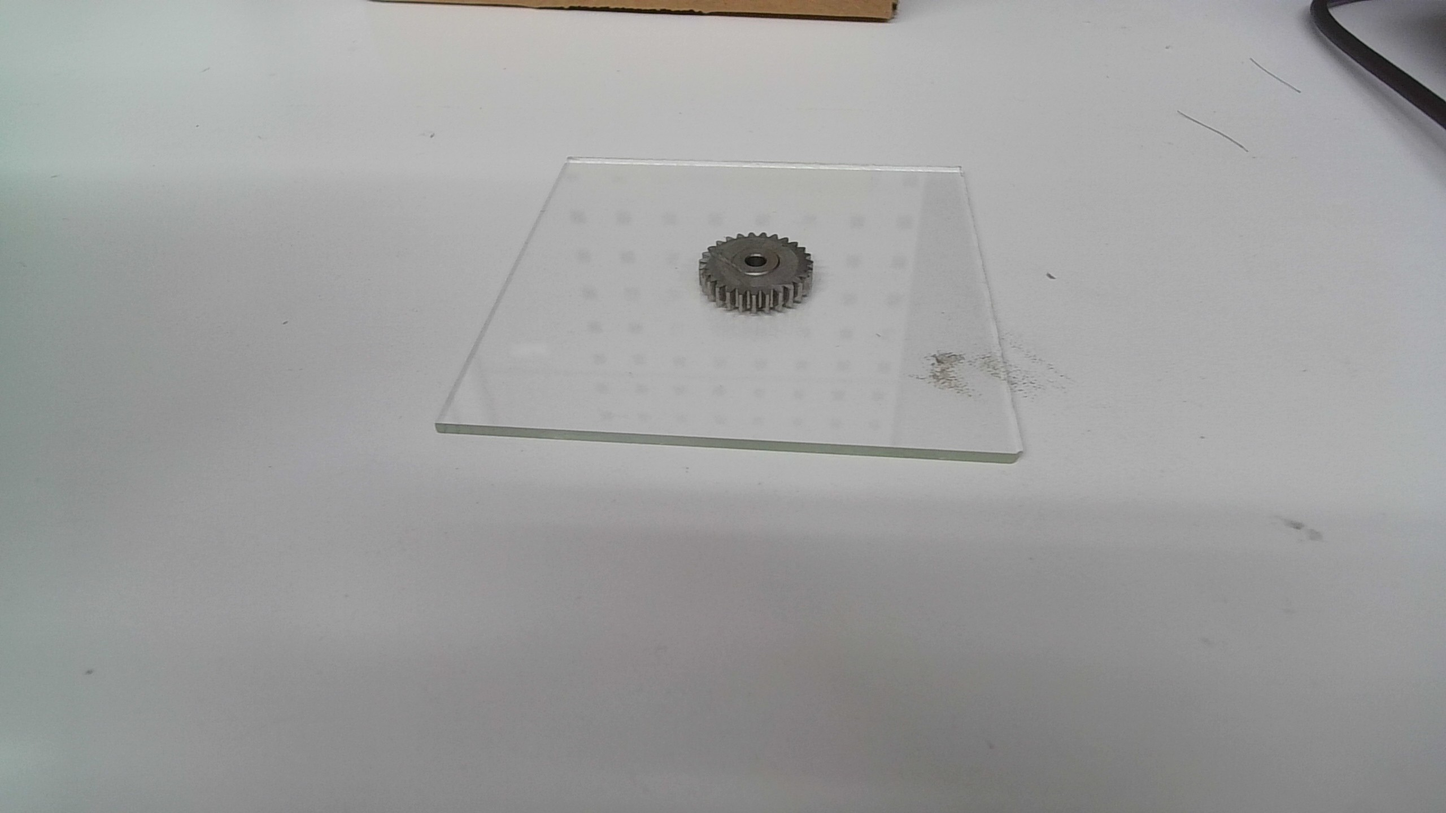gear: (696, 230, 818, 314)
